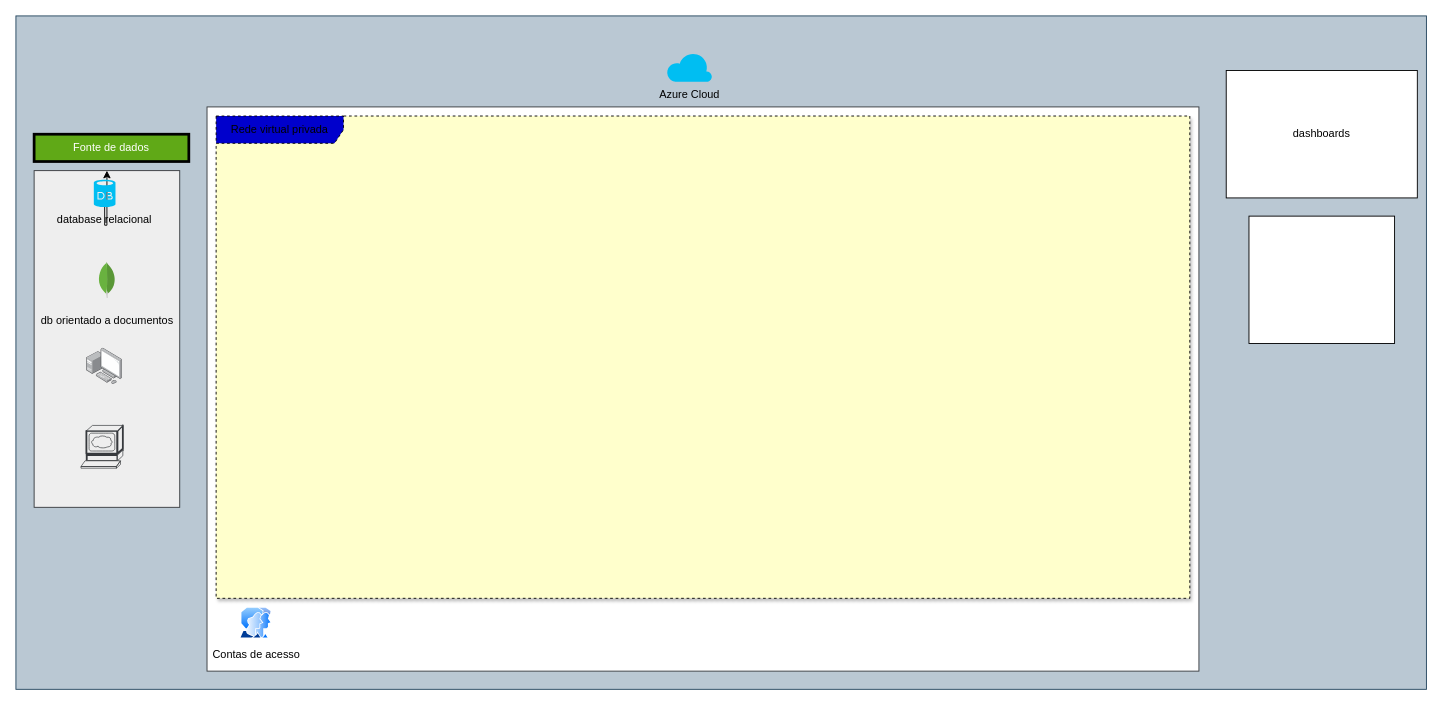
Image size: 1442x705. Some labels were removed from this diagram. The shapes that lost their labels are listed below. From the top down, each one's centre as x and y in pixels, then its label:
[1321,279]: servidores de outros setores
[104,366]: servidores
[101,446]: plataformas online
